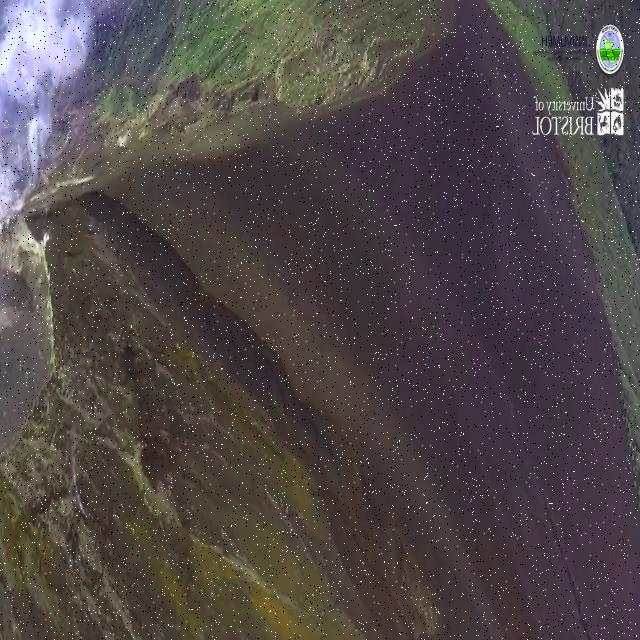Plume: (0, 0, 112, 218)
Summit: (0, 185, 106, 499)
